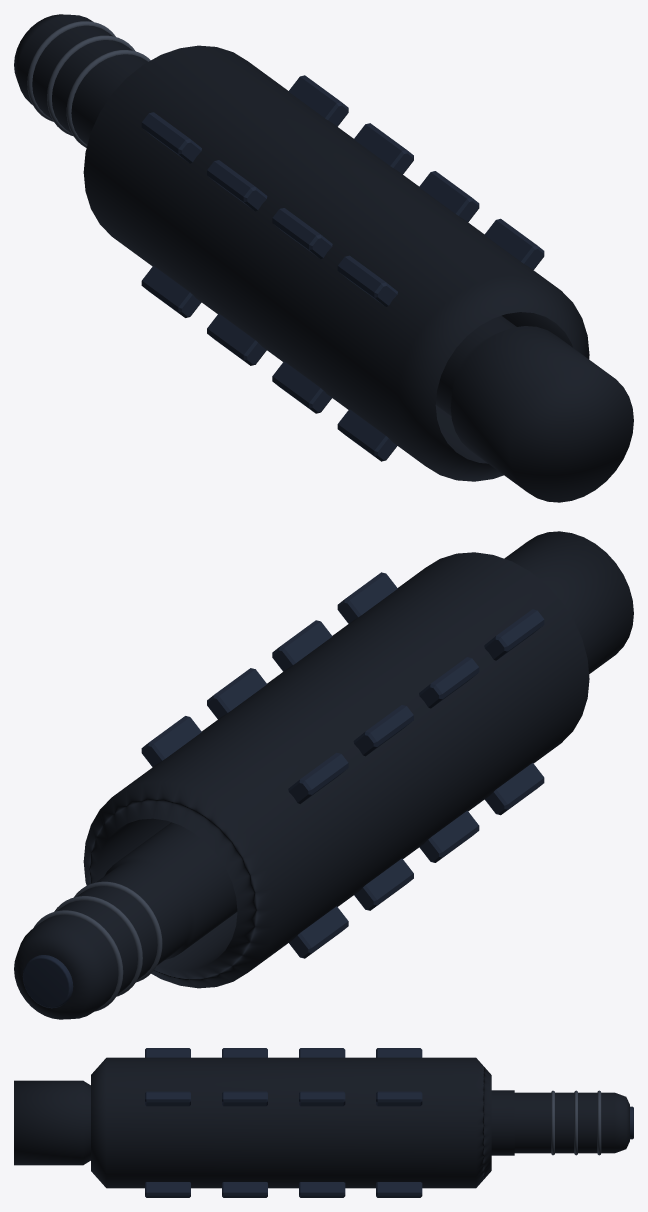
File: attach_shortbarrel.glb
The picture shows the model from 3 angles, top to bottom: view 1: azimuth 30°, elevation 25°; view 2: azimuth 150°, elevation 25°; view 3: azimuth 270°, elevation 25°; orthographic projection. The views are drawn at different scales.
Visible parts, largest first — view 1: attach_shortbarrel_shroud, attach_shortbarrel_barrel_tube, attach_shortbarrel_port3_3.93, attach_shortbarrel_port1_3.93, attach_shortbarrel_port0_3.93, attach_shortbarrel_port2_3.93, attach_shortbarrel_port1_0.79, attach_shortbarrel_port0_0.79, attach_shortbarrel_port2_0.79, attach_shortbarrel_port3_0.79, attach_shortbarrel_port1_2.36, attach_shortbarrel_port3_2.36 (+5 smaller); view 2: attach_shortbarrel_shroud, attach_shortbarrel_barrel_tube, attach_shortbarrel_bore, attach_shortbarrel_port1_3.93, attach_shortbarrel_port3_3.93, attach_shortbarrel_port0_3.93, attach_shortbarrel_port2_3.93, attach_shortbarrel_port0_0.79, attach_shortbarrel_port1_0.79, attach_shortbarrel_port3_0.79, attach_shortbarrel_port2_0.79, attach_shortbarrel_port0_2.36 (+6 smaller); view 3: attach_shortbarrel_shroud, attach_shortbarrel_barrel_tube, attach_shortbarrel_port2_5.50, attach_shortbarrel_port3_5.50, attach_shortbarrel_port2_0.79, attach_shortbarrel_port3_0.79, attach_shortbarrel_port0_5.50, attach_shortbarrel_port1_5.50, attach_shortbarrel_port0_0.79, attach_shortbarrel_port1_0.79, attach_shortbarrel_port2_2.36, attach_shortbarrel_port3_2.36 (+5 smaller).
Part boxes in pixels (x1=…): attach_shortbarrel_shroud: x1=83, y1=45, x2=589, y2=481; attach_shortbarrel_barrel_tube: x1=14, y1=14, x2=633, y2=502; attach_shortbarrel_port3_3.93: x1=141, y1=265, x2=201, y2=317; attach_shortbarrel_port1_3.93: x1=272, y1=361, x2=331, y2=413; attach_shortbarrel_port0_3.93: x1=337, y1=409, x2=397, y2=461; attach_shortbarrel_port2_3.93: x1=207, y1=313, x2=266, y2=365; attach_shortbarrel_port1_0.79: x1=419, y1=171, x2=479, y2=222; attach_shortbarrel_port0_0.79: x1=484, y1=218, x2=544, y2=269; attach_shortbarrel_port2_0.79: x1=353, y1=123, x2=413, y2=174; attach_shortbarrel_port3_0.79: x1=288, y1=75, x2=348, y2=126; attach_shortbarrel_port1_2.36: x1=272, y1=208, x2=332, y2=259; attach_shortbarrel_port3_2.36: x1=141, y1=112, x2=201, y2=163; attach_shortbarrel_shroud: x1=83, y1=552, x2=589, y2=988; attach_shortbarrel_barrel_tube: x1=14, y1=531, x2=633, y2=1019; attach_shortbarrel_bore: x1=22, y1=955, x2=73, y2=1008; attach_shortbarrel_port1_3.93: x1=419, y1=810, x2=479, y2=862; attach_shortbarrel_port3_3.93: x1=289, y1=906, x2=348, y2=958; attach_shortbarrel_port0_3.93: x1=485, y1=763, x2=544, y2=815; attach_shortbarrel_port2_3.93: x1=354, y1=858, x2=413, y2=910; attach_shortbarrel_port0_0.79: x1=337, y1=572, x2=397, y2=623; attach_shortbarrel_port1_0.79: x1=272, y1=620, x2=332, y2=671; attach_shortbarrel_port3_0.79: x1=141, y1=716, x2=201, y2=767; attach_shortbarrel_port2_0.79: x1=207, y1=668, x2=266, y2=719; attach_shortbarrel_port0_2.36: x1=484, y1=609, x2=544, y2=660; attach_shortbarrel_shroud: x1=91, y1=1057, x2=491, y2=1188; attach_shortbarrel_barrel_tube: x1=14, y1=1080, x2=629, y2=1165; attach_shortbarrel_port2_5.50: x1=299, y1=1182, x2=345, y2=1197; attach_shortbarrel_port3_5.50: x1=376, y1=1182, x2=422, y2=1197; attach_shortbarrel_port2_0.79: x1=299, y1=1091, x2=345, y2=1106; attach_shortbarrel_port3_0.79: x1=376, y1=1091, x2=422, y2=1106; attach_shortbarrel_port0_5.50: x1=145, y1=1182, x2=190, y2=1197; attach_shortbarrel_port1_5.50: x1=222, y1=1182, x2=267, y2=1197; attach_shortbarrel_port0_0.79: x1=145, y1=1091, x2=190, y2=1106; attach_shortbarrel_port1_0.79: x1=222, y1=1091, x2=267, y2=1106; attach_shortbarrel_port2_2.36: x1=299, y1=1048, x2=345, y2=1057; attach_shortbarrel_port3_2.36: x1=376, y1=1048, x2=422, y2=1057.
Size of the model in its own units: 0.034 by 0.034 by 0.161.
